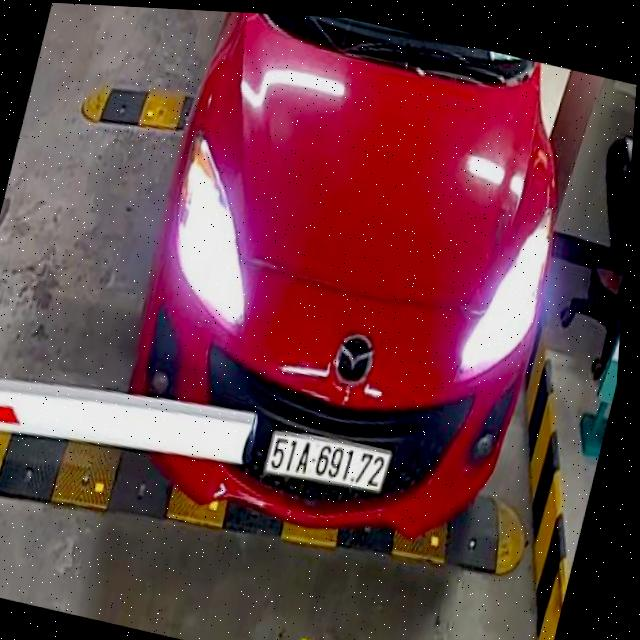car: (87, 6, 609, 574)
plate: (254, 419, 396, 504)
